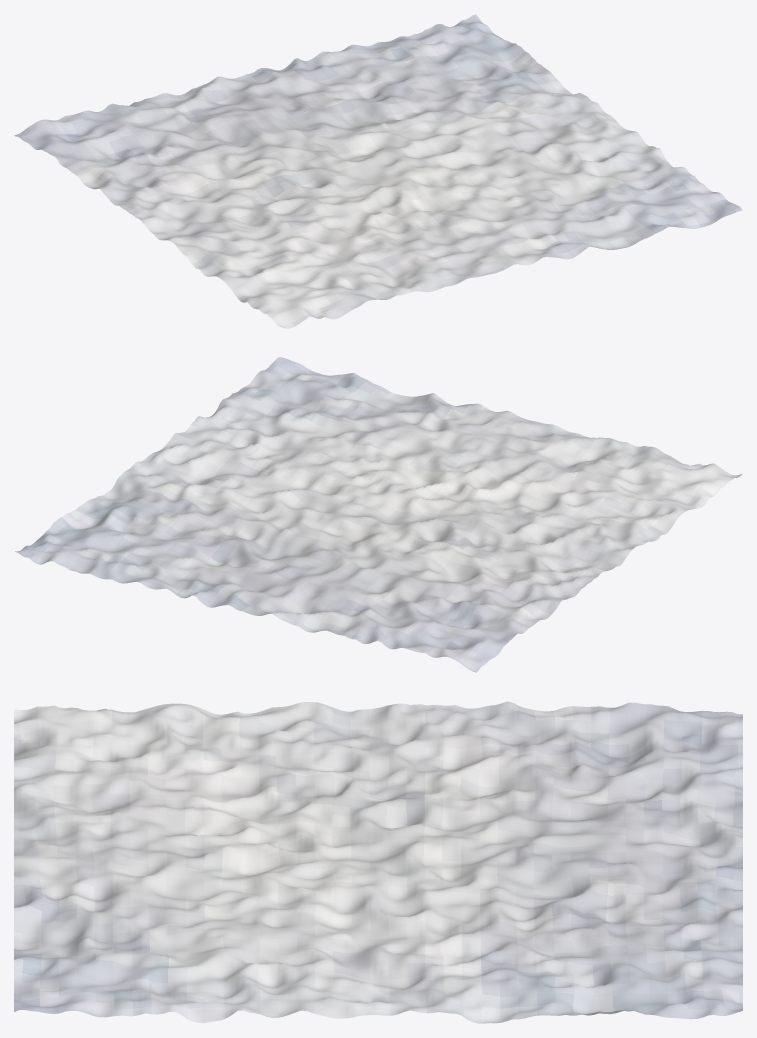
Rendered from terraing1.glb.
3 renders of one model, top to bottom at view 1: azimuth 30°, elevation 25°; view 2: azimuth 150°, elevation 25°; view 3: azimuth 270°, elevation 25°, orthographic. The views are drawn at different scales.
Parts seen in each view (by area): view 1: Landscape.001; view 2: Landscape.001; view 3: Landscape.001.
Part boxes in pixels (<box>): Landscape.001: <box>14,14,742,328</box>; Landscape.001: <box>15,357,742,672</box>; Landscape.001: <box>14,701,742,1023</box>.
Bounding box in the file's own units: 200 × 5.89 × 200.
1 material, 1 textured.
